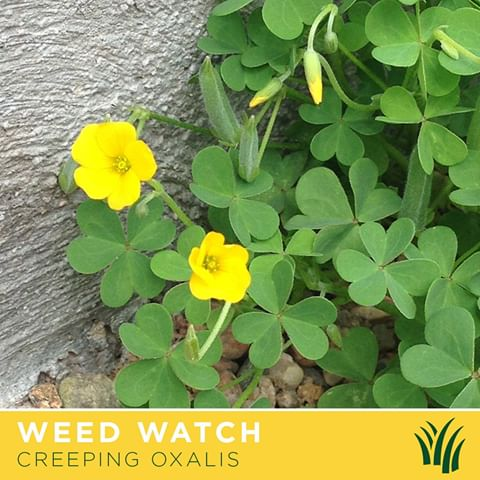oxalis: (202, 112, 475, 377), (85, 289, 235, 421), (63, 212, 199, 296), (369, 17, 479, 112), (195, 11, 304, 83)
